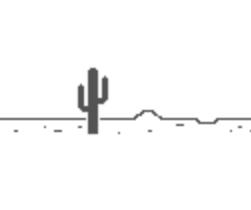t-rex: (73, 63, 112, 136)
